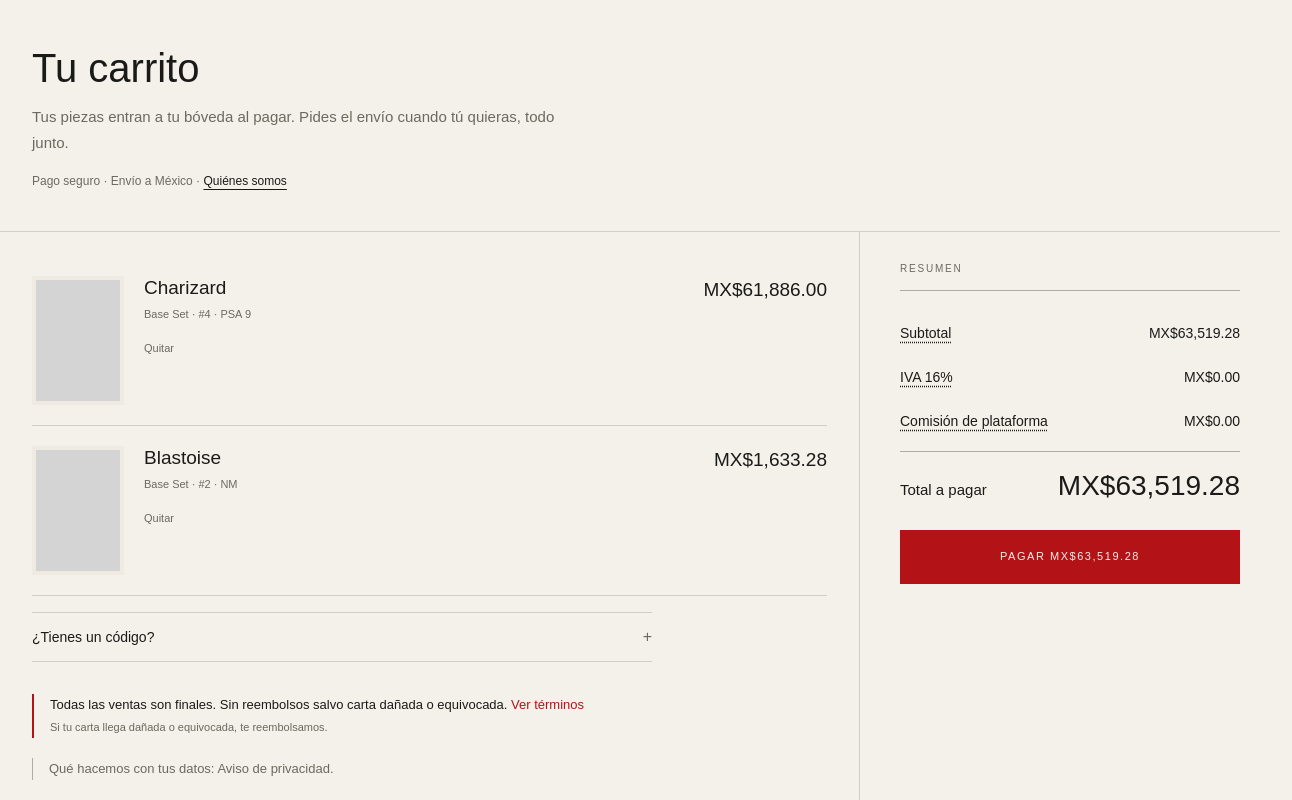
it: checkout · poda amable de piezas muertas (v1.21.3-quote-prune) › con cuenta: si la RE-COTIZACIÓN tras ITEM_UNAVAILABLE falla, sí queda un mensaje visible (respaldo)
Expected: the text "Blastoise" is shown, [144,447,221,468]
Click the button "Pagar MX$63,519.28" at (1070, 556), box [900,530,1240,584]
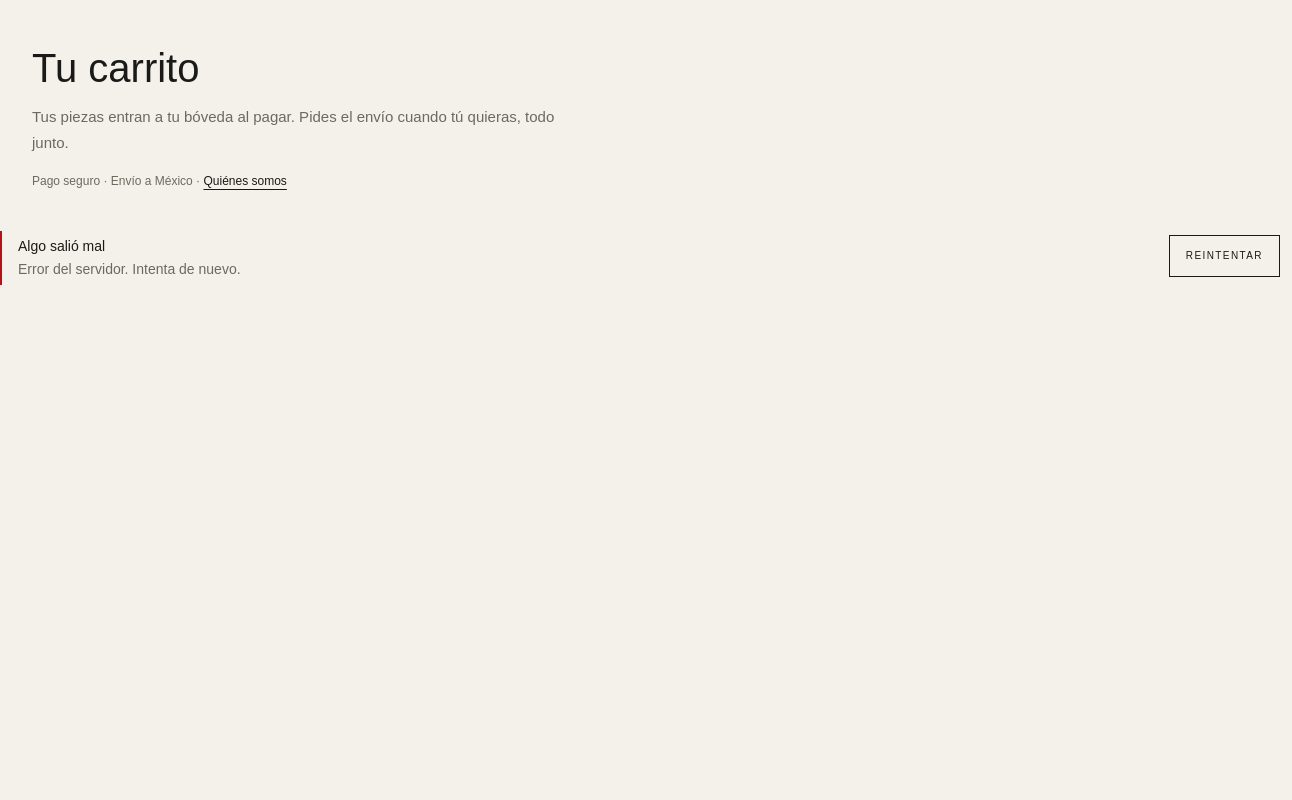
Expected: the message "Algo salió mal Error del servidor. Intenta de nuevo. Reintentar" is shown, [0,231,1280,284]
Expected: the button "Reintentar" is shown, [1169,235,1280,277]
